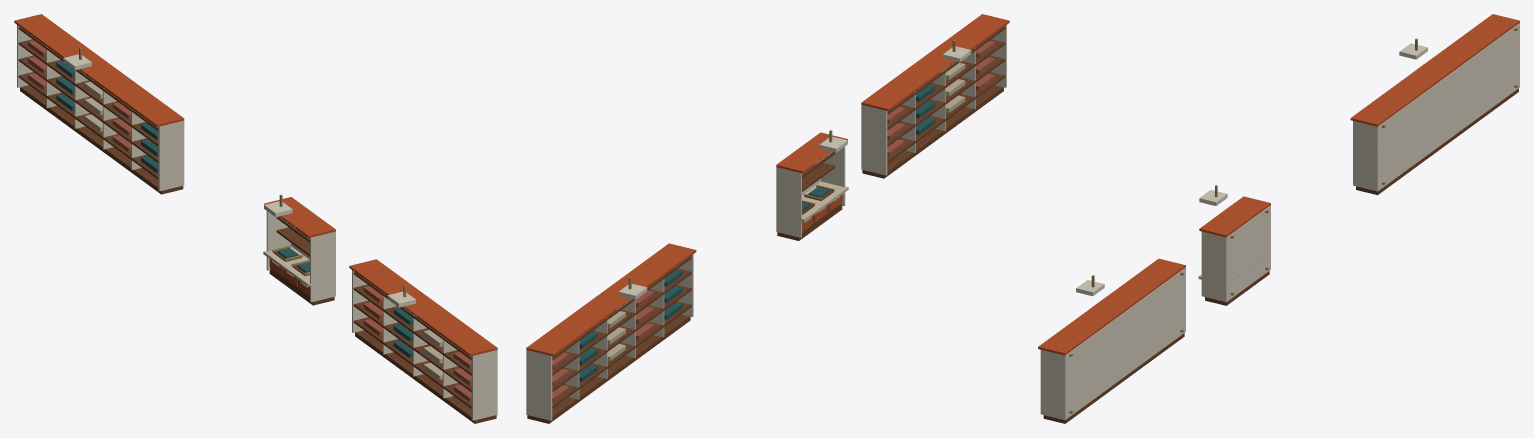
File: thread_stock_repair_r002.glb
3 renders of one model, left to right at view 1: azimuth 30°, elevation 25°; view 2: azimuth 150°, elevation 25°; view 3: azimuth 330°, elevation 25°, orthographic.
Visible parts, largest first — view 1: TextileStock_crown, TextileReserve_crown, TextileReserve_side_-200.0, TextileStock_side_-221.7, RepairReturn_side_-211.2, TextileStock_plinth, TextileReserve_plinth, RepairReturn_crown, TextileStock_shelf_1.18, TextileStock_shelf_0.55, TextileStock_shelf_1.81, TextileReserve_shelf_1.18 (+8 smaller); view 2: TextileStock_crown, TextileReserve_crown, TextileReserve_side_-208.3, TextileStock_side_-231.5, RepairReturn_side_-214.2, TextileStock_plinth, TextileReserve_plinth, RepairReturn_crown, TextileStock_shelf_0.55, TextileStock_shelf_1.18, TextileStock_shelf_1.81, TextileReserve_shelf_0.55 (+9 smaller); view 3: TextileStock_back, TextileReserve_back, TextileStock_crown, TextileReserve_crown, RepairReturn_back, TextileReserve_side_-200.0, RepairReturn_side_-211.2, TextileStock_side_-221.7, RepairReturn_crown, TextileStock_plinth, TextileReserve_plinth.
Part boxes in pixels (x1,y1,x2,y2): TextileStock_crown: [14, 14, 184, 126]; TextileReserve_crown: [349, 259, 497, 356]; TextileReserve_side_-200.0: [471, 350, 497, 420]; TextileStock_side_-221.7: [158, 120, 184, 191]; RepairReturn_side_-211.2: [310, 231, 335, 302]; TextileStock_plinth: [20, 85, 183, 194]; TextileReserve_plinth: [355, 330, 496, 423]; RepairReturn_crown: [264, 197, 335, 237]; TextileStock_shelf_1.18: [18, 55, 158, 162]; TextileStock_shelf_0.55: [18, 72, 158, 179]; TextileStock_shelf_1.81: [18, 39, 158, 146]; TextileReserve_shelf_1.18: [353, 300, 471, 391]; TextileStock_crown: [526, 243, 696, 356]; TextileReserve_crown: [861, 14, 1009, 111]; TextileReserve_side_-208.3: [861, 104, 887, 175]; TextileStock_side_-231.5: [526, 350, 552, 420]; RepairReturn_side_-214.2: [776, 167, 801, 237]; TextileStock_plinth: [527, 314, 690, 423]; TextileReserve_plinth: [862, 85, 1003, 178]; RepairReturn_crown: [776, 132, 847, 173]; TextileStock_shelf_0.55: [552, 301, 691, 408]; TextileStock_shelf_1.18: [552, 285, 691, 391]; TextileStock_shelf_1.81: [552, 268, 691, 375]; TextileReserve_shelf_0.55: [887, 72, 1005, 163]; TextileStock_back: [1378, 24, 1519, 190]; TextileReserve_back: [1065, 268, 1185, 419]; TextileStock_crown: [1350, 14, 1519, 126]; TextileReserve_crown: [1038, 258, 1185, 355]; RepairReturn_back: [1227, 206, 1270, 301]; TextileReserve_side_-200.0: [1040, 350, 1066, 420]; RepairReturn_side_-211.2: [1201, 231, 1227, 302]; TextileStock_side_-221.7: [1353, 121, 1378, 191]; RepairReturn_crown: [1199, 196, 1270, 237]; TextileStock_plinth: [1356, 88, 1518, 195]; TextileReserve_plinth: [1043, 333, 1184, 423].
Bounding box in the file's own units: 1.84 × 3.7 × 31.58.
Materials: 8 (8 with a texture image).
